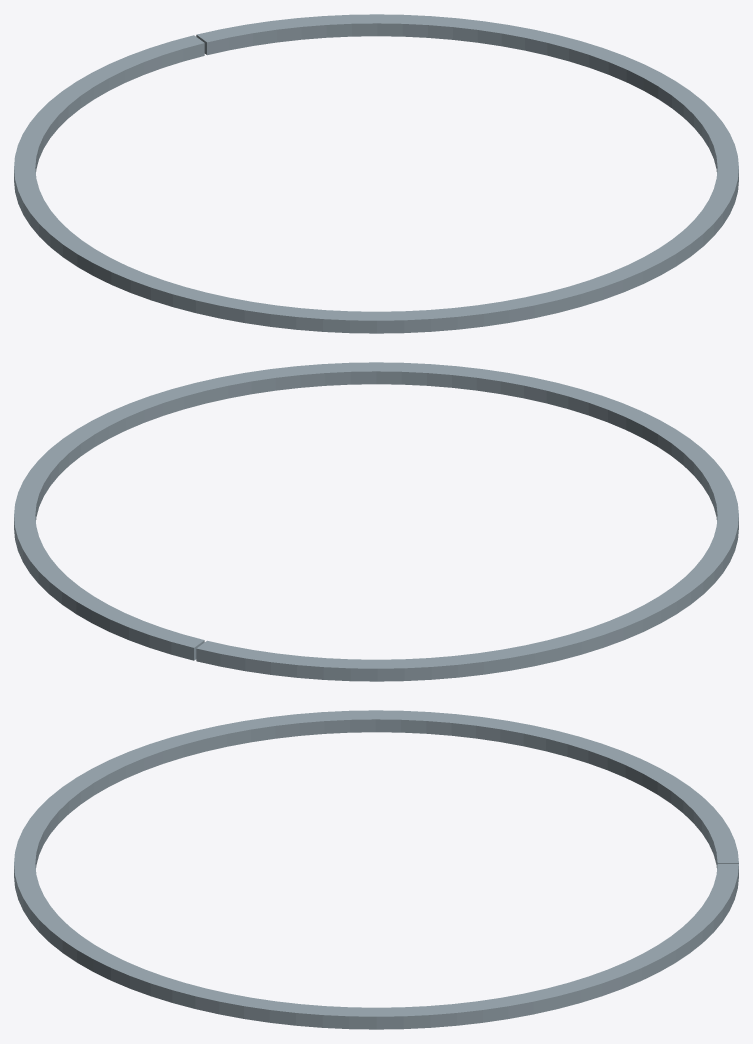
Rendered from compression-ring.glb.
3 views of the same model, one above another, from view 1: azimuth 30°, elevation 25°; view 2: azimuth 150°, elevation 25°; view 3: azimuth 270°, elevation 25° (orthographic).
Parts seen in each view (by area): view 1: compression-ring; view 2: compression-ring; view 3: compression-ring.
Part boxes in pixels (left/top/right/bottom): compression-ring: left=14, top=14, right=738, bottom=333; compression-ring: left=14, top=362, right=738, bottom=681; compression-ring: left=14, top=710, right=738, bottom=1029.
Bounding box in the file's own units: 0.1016 × 0.00198 × 0.1016.
